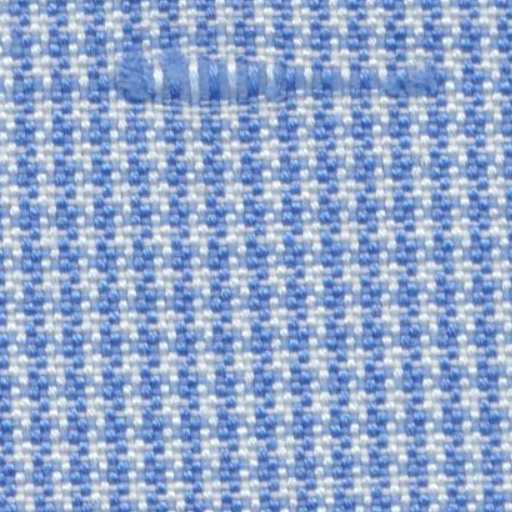DaiSha: (112, 35, 464, 118)
